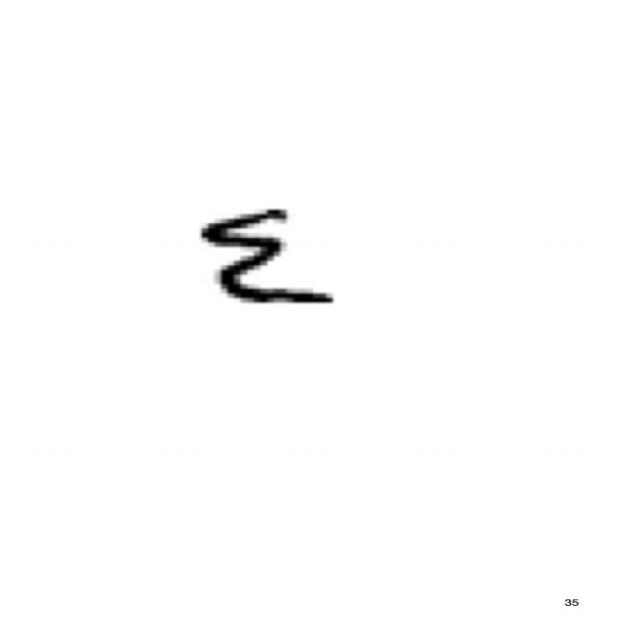4 -four-: (196, 202, 348, 313)
